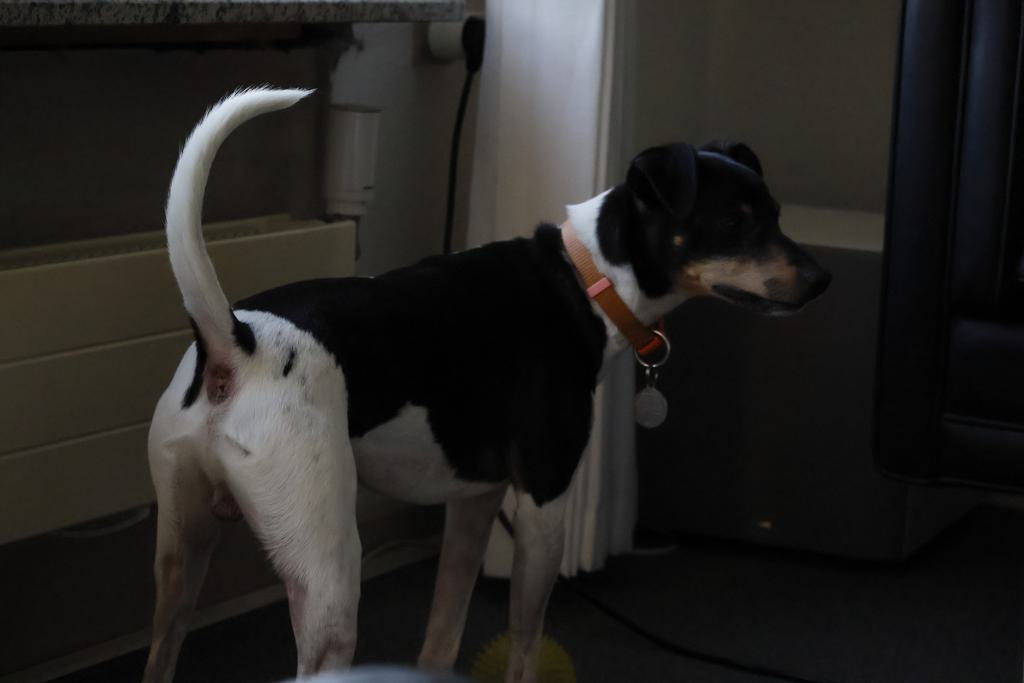Dog: (120, 67, 851, 683)
